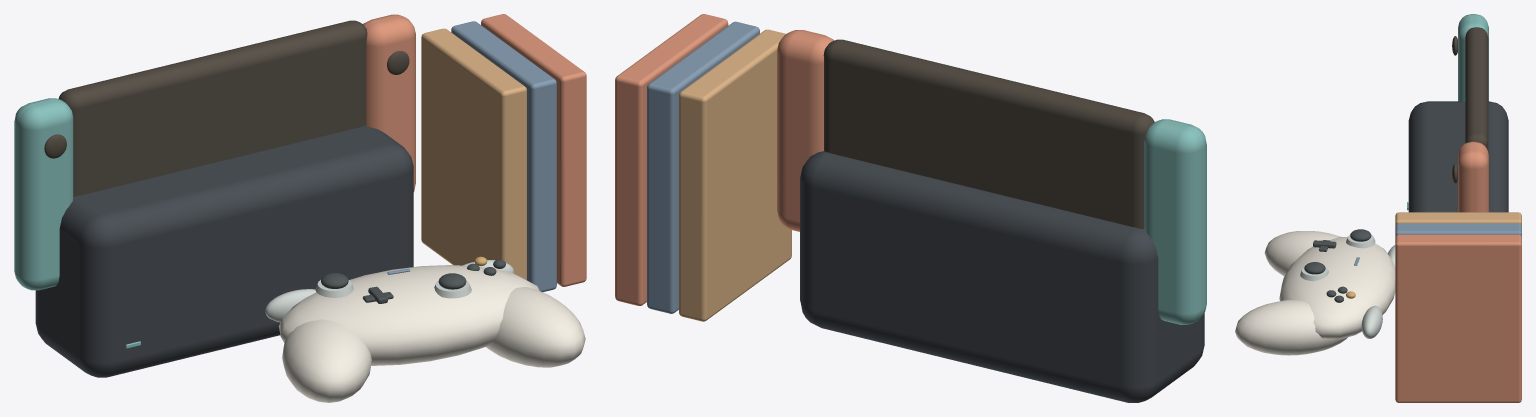
File: family-game-corner-v1.glb
3 renders of one model, left to right at view 1: azimuth 30°, elevation 25°; view 2: azimuth 150°, elevation 25°; view 3: azimuth 270°, elevation 25°, orthographic. The views are drawn at different scales.
Parts seen in each view (by area): view 1: Charging dock, Game case (×3), Handheld screen, Detachable grip (×2), Controller body, Hand grip (×2), Shoulder trigger; view 2: Charging dock, Game case (×3), Handheld screen, Detachable grip (×2); view 3: Game case (×3), Charging dock, Controller body, Hand grip (×2), Detachable grip (×2), Handheld screen, Shoulder trigger.
Boxes of the visible parts, x1,y1,x2,y2 form: Charging dock: (35,126,413,377); Game case (×3): (421,14,586,292); Handheld screen: (58,20,367,196); Detachable grip (×2): (14,14,415,290); Controller body: (278,265,539,365); Hand grip (×2): (282,287,585,402); Shoulder trigger: (265,289,316,322); Charging dock: (800,151,1204,402); Game case (×3): (615,14,791,321); Handheld screen: (823,39,1154,228); Detachable grip (×2): (777,30,1206,324); Game case (×3): (1395,212,1521,402); Charging dock: (1408,101,1508,212); Controller body: (1279,236,1395,339); Hand grip (×2): (1235,231,1347,355); Detachable grip (×2): (1458,14,1488,212); Handheld screen: (1465,27,1488,151); Shoulder trigger: (1361,305,1382,338).
Size of the model in its own units: 0.279 by 0.1365 by 0.1746.
